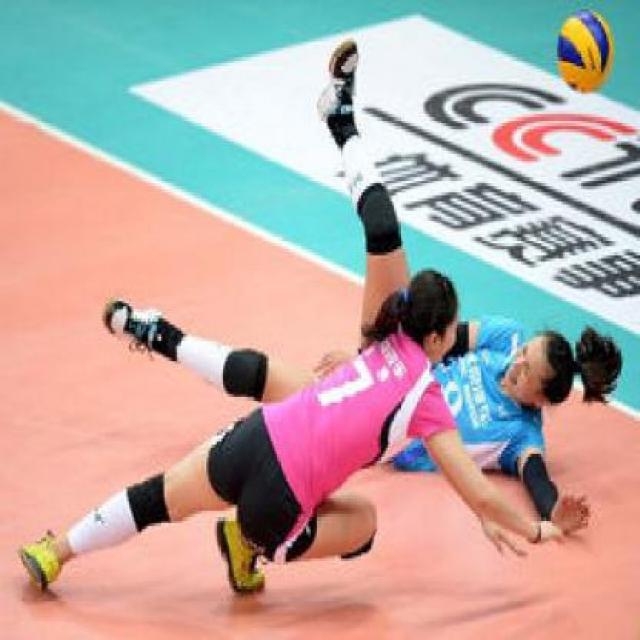fall: (52, 30, 517, 595)
